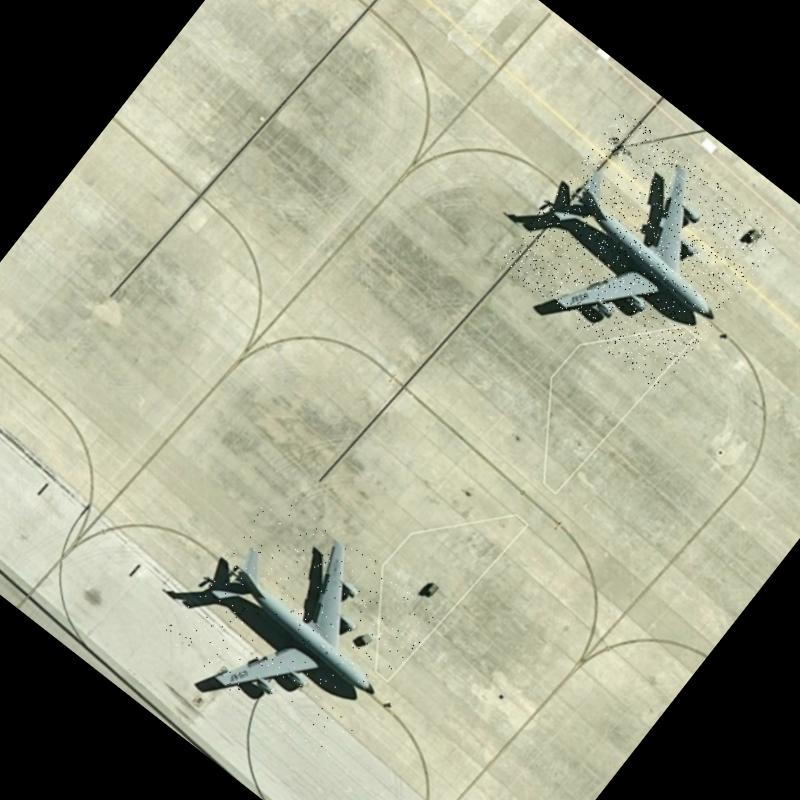A14: (497, 107, 784, 394), (158, 485, 443, 768)
